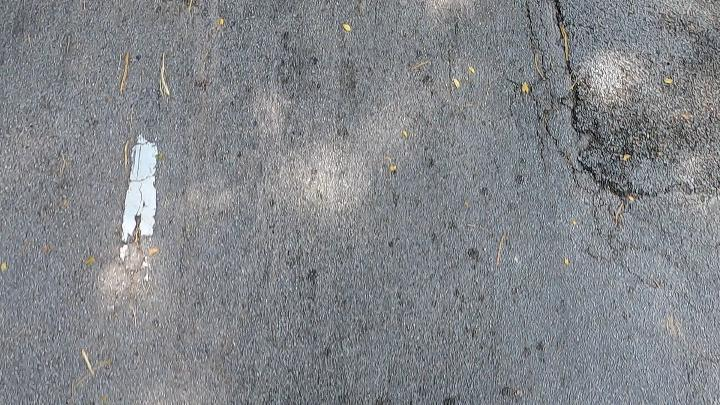Lane: (121, 132, 159, 249), (122, 135, 157, 241)
Pothole: (552, 0, 720, 200), (558, 0, 719, 197)
